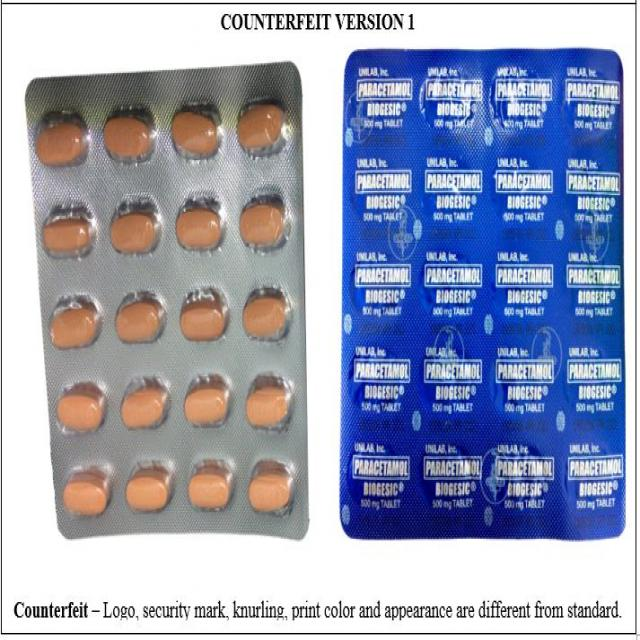counterfeit: (342, 45, 626, 542), (23, 66, 309, 544)
